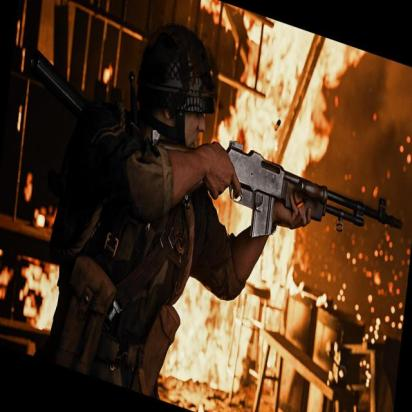Gun: (148, 102, 412, 288)
